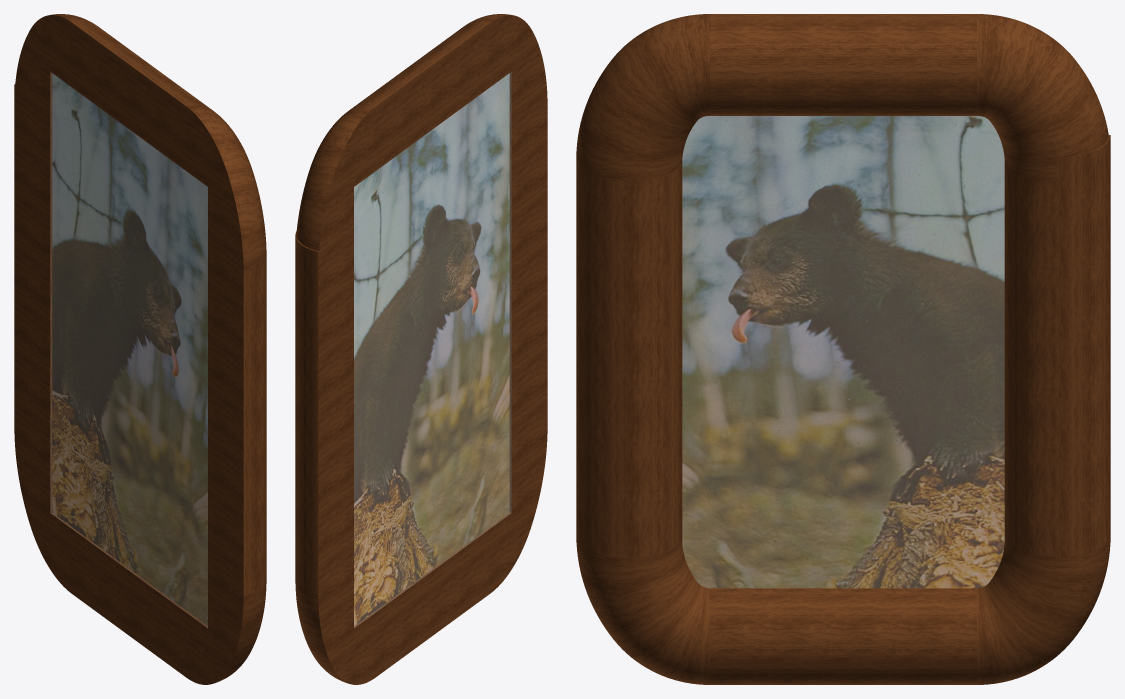
The model's file is frameA.glb.
3 views of the same model, side by side, from view 1: azimuth 30°, elevation 25°; view 2: azimuth 150°, elevation 25°; view 3: azimuth 270°, elevation 25° (orthographic). The views are drawn at different scales.
Parts seen in each view (by area): view 1: frameA-frame, frameA-glass, Plane; view 2: frameA-frame, frameA-glass, Plane; view 3: frameA-frame, Plane, frameA-glass.
Boxes of the visible parts, <box> form: frameA-frame: <box>14,14,266,684</box>; frameA-glass: <box>50,72,207,627</box>; Plane: <box>52,73,207,625</box>; frameA-frame: <box>295,14,547,684</box>; frameA-glass: <box>354,72,511,627</box>; Plane: <box>354,73,509,625</box>; frameA-frame: <box>576,14,1110,684</box>; Plane: <box>682,116,1004,588</box>; frameA-glass: <box>682,116,1004,587</box>.
Bounding box in the file's own units: 0.8298 × 11.41 × 8.3.
3 materials, 2 textured.
